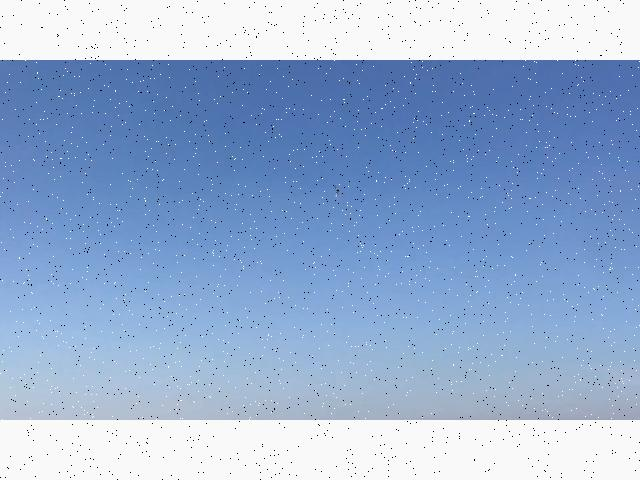Anti-Drone: (325, 181, 351, 201)
